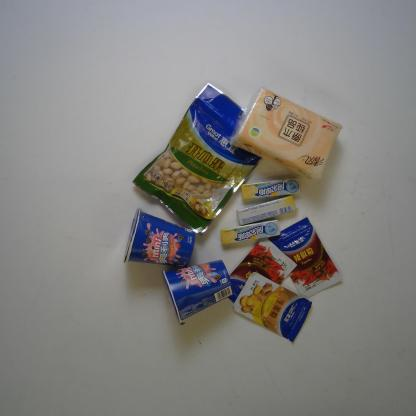Candy: (236, 194, 296, 226), (220, 219, 281, 245), (241, 178, 301, 200)
Dessert: (124, 208, 201, 273), (162, 259, 233, 325)
Dried Fruit: (132, 82, 276, 237)
Seasoner: (268, 216, 342, 300), (232, 272, 312, 343), (228, 238, 297, 305)
Tissue: (229, 86, 343, 184)
